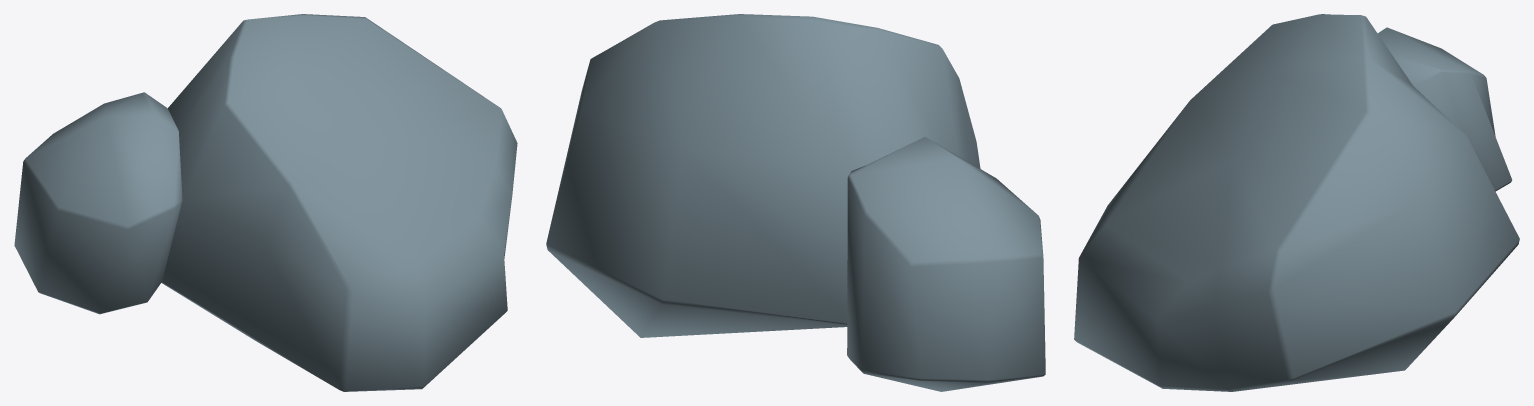
Rendered from Stone_5.fbx.
3 renders of one model, left to right at view 1: azimuth 30°, elevation 25°; view 2: azimuth 150°, elevation 25°; view 3: azimuth 270°, elevation 25°, orthographic. The views are drawn at different scales.
Parts seen in each view (by area): view 1: Rocks_5; view 2: Rocks_5; view 3: Rocks_5.
Boxes of the visible parts, left/top/right/bottom form: Rocks_5: left=14, top=14, right=517, bottom=391; Rocks_5: left=546, top=14, right=1045, bottom=391; Rocks_5: left=1074, top=14, right=1519, bottom=391.
Size of the model in its own units: 60.25 by 40.31 by 50.85.
